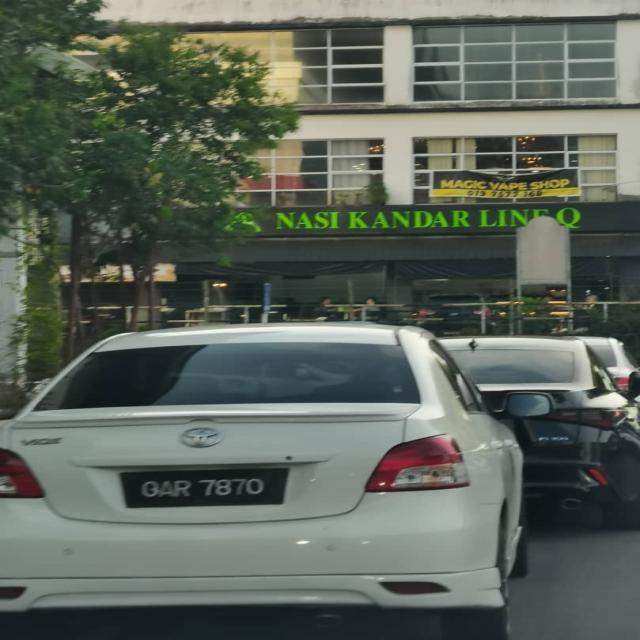ToyotaVios: (0, 319, 532, 637)
